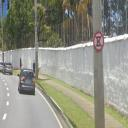speed_limit_40: (35, 42, 39, 48)
